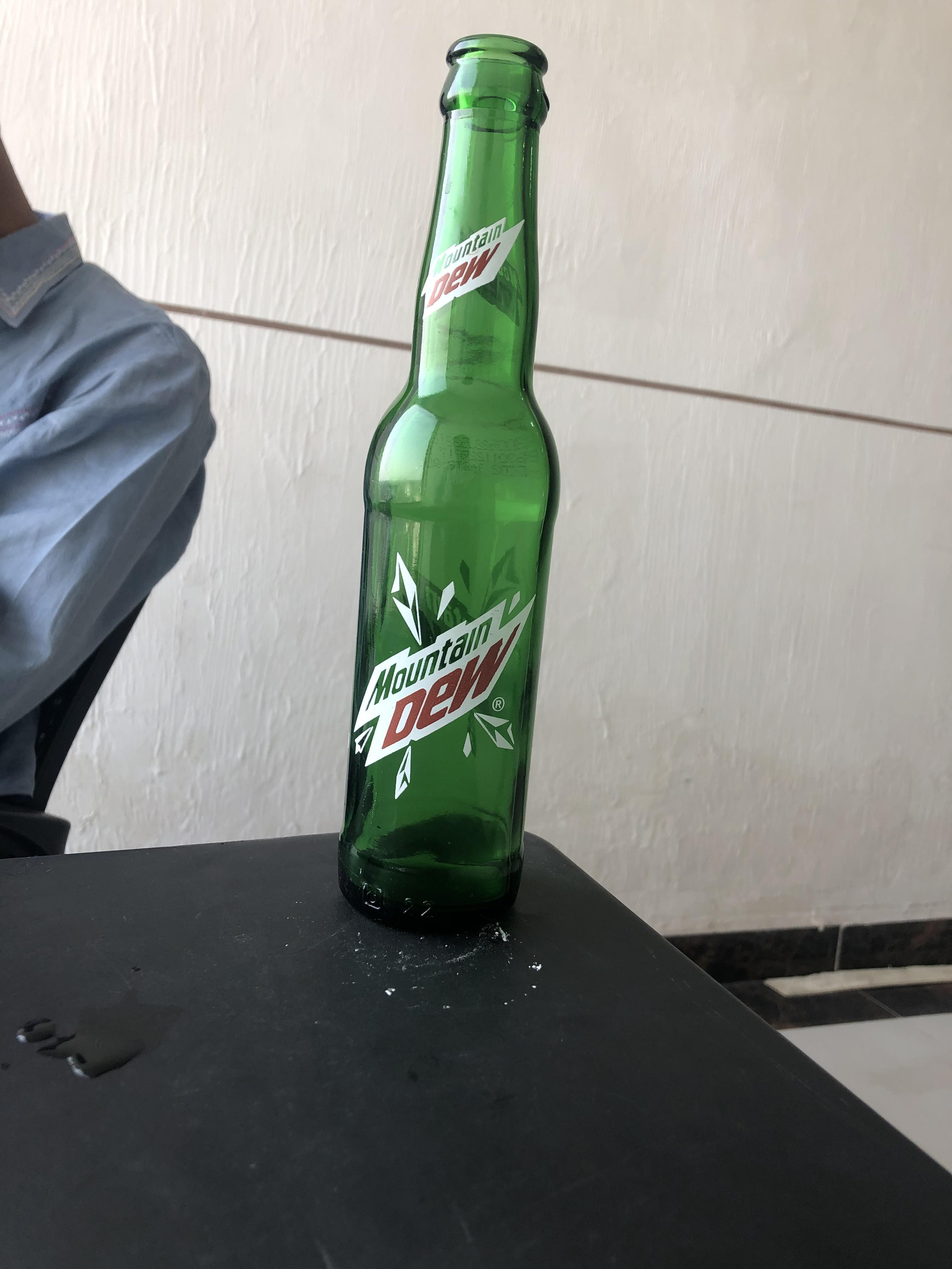bottle-glass: (344, 26, 567, 939)
